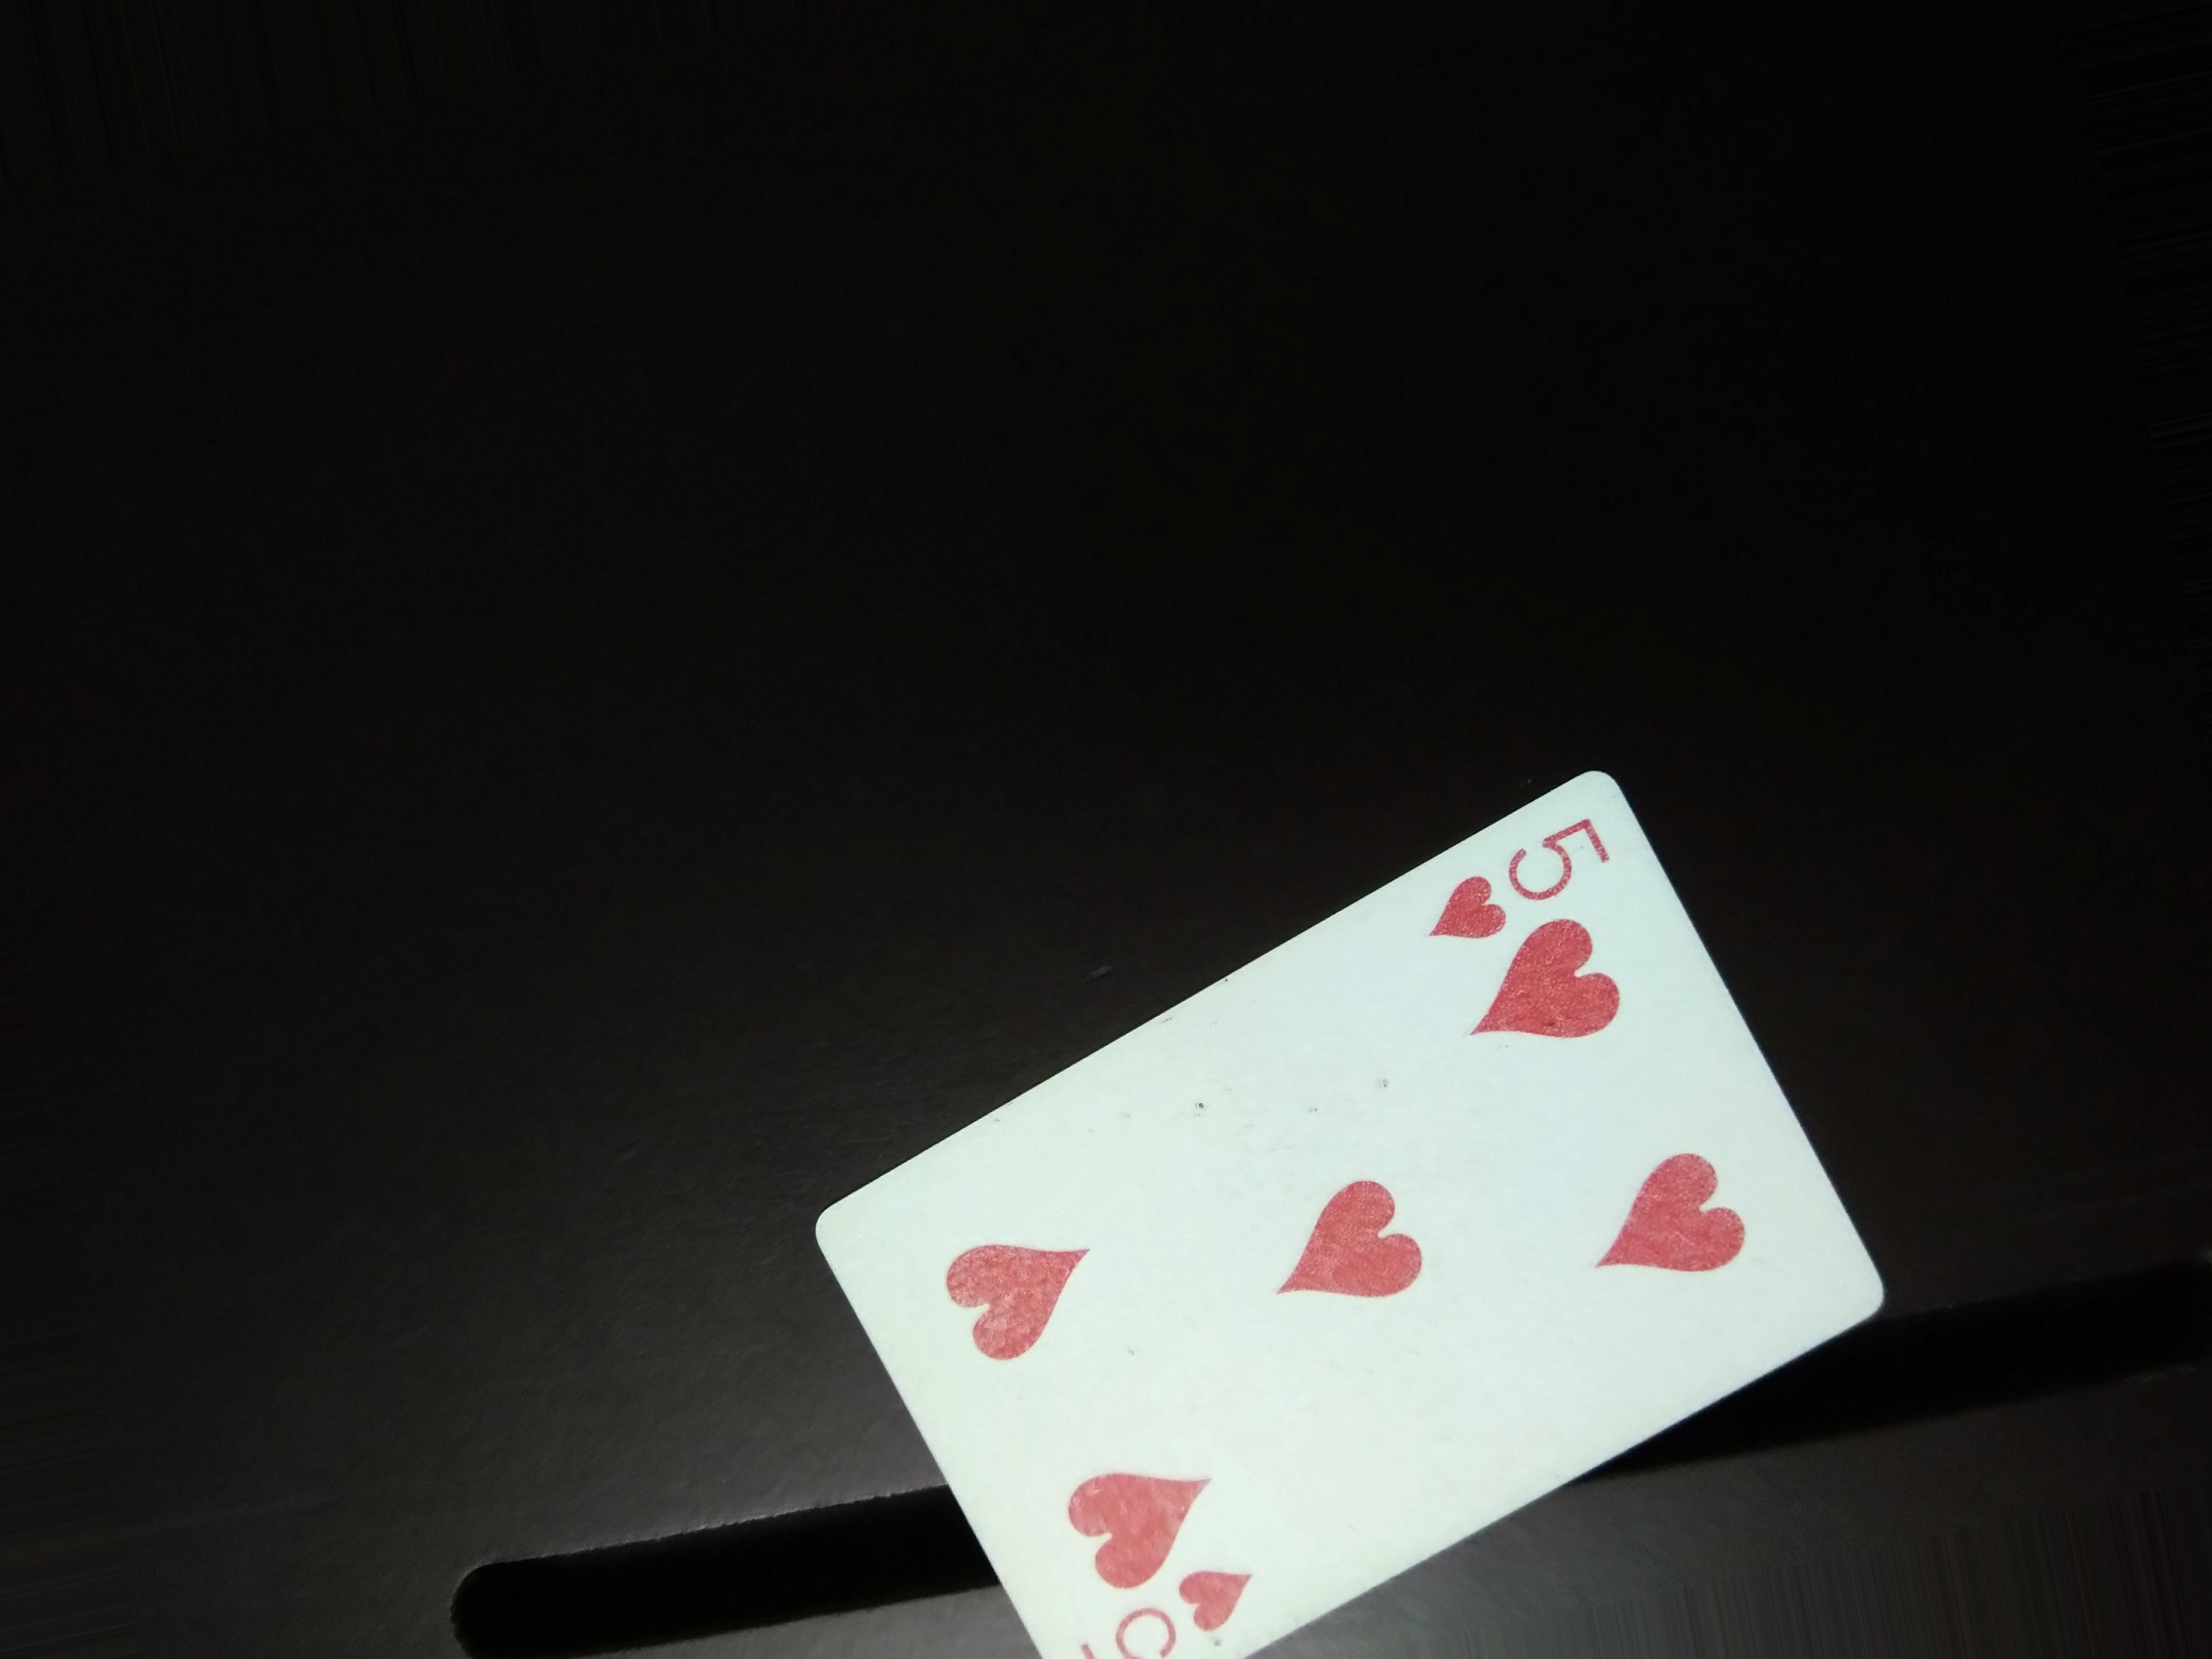5H: (1416, 817, 1613, 986)
